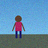person: (12, 15, 25, 38)
